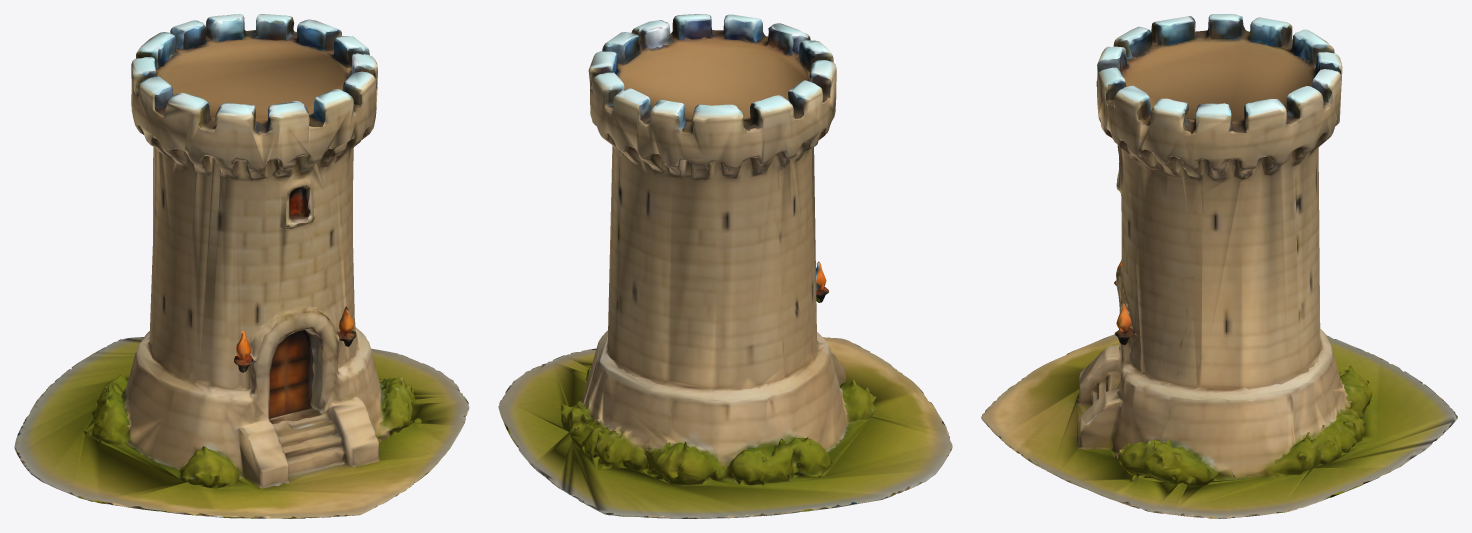
The model's file is sentry_tower.glb.
The picture shows the model from 3 angles, left to right: view 1: azimuth 30°, elevation 25°; view 2: azimuth 150°, elevation 25°; view 3: azimuth 270°, elevation 25°; orthographic projection.
Parts seen in each view (by area): view 1: tmpum7mkz4_.ply; view 2: tmpum7mkz4_.ply; view 3: tmpum7mkz4_.ply.
Part boxes in pixels (x1,y1,x2,y2): tmpum7mkz4_.ply: (14,14,469,518); tmpum7mkz4_.ply: (498,14,952,518); tmpum7mkz4_.ply: (981,14,1457,518).
Size of the model in its own units: 1.95 by 1.64 by 1.95.
Materials: 1 (1 with a texture image).
